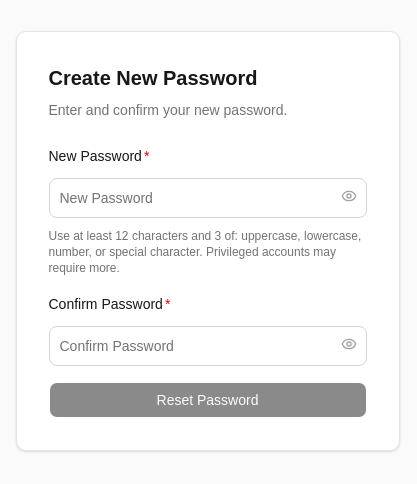
it: ResetPassword › rejects mismatched passwords without API request
In the password field with id "new-password": (208, 198) [48,178,366,218], type "Password-one1"
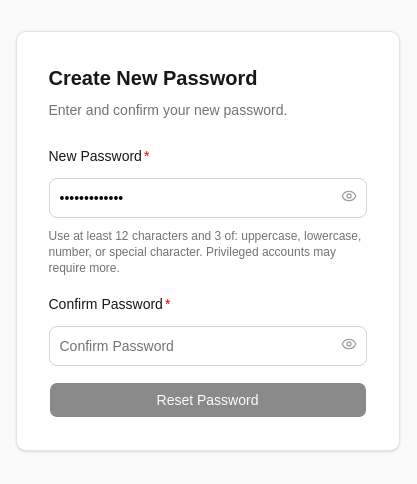
In the password field with id "confirm-password": (208, 346) [48,326,366,366], type "Password-two2"
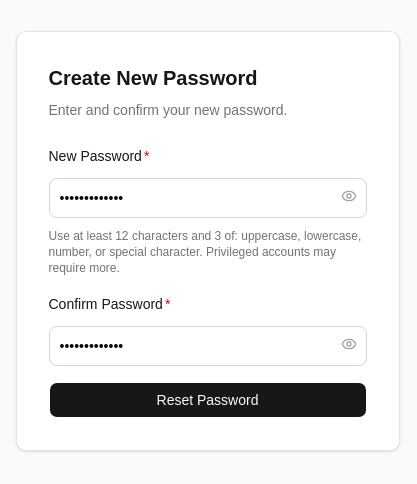
Click the button "Reset Password": click(208, 400) [48,382,366,418]
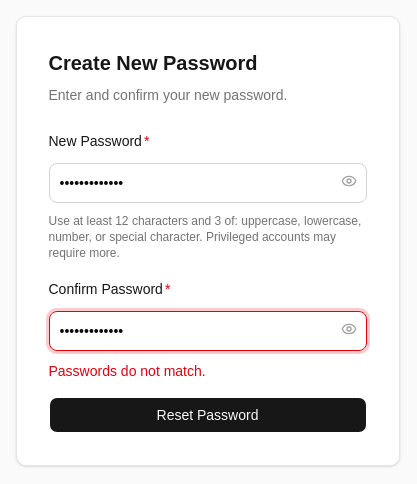
In the password field labelled "New Password *": (208, 183) [48,163,366,203], type "Password-two2"
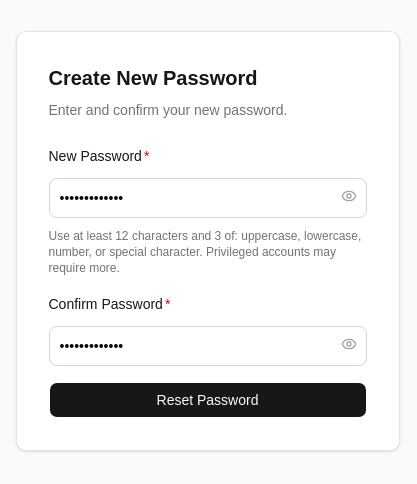
Check: the text "Passwords do not match." is not shown
